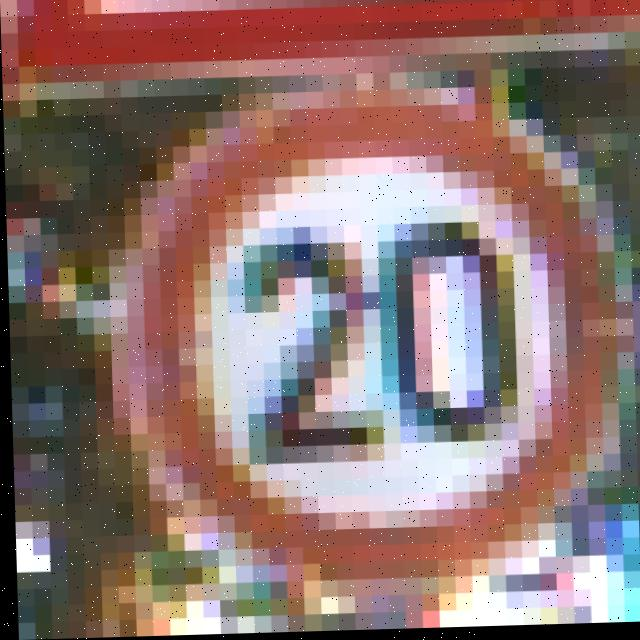speed_limit_20: (123, 83, 626, 589)
